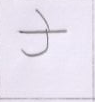e_matra: (35, 9, 55, 30)
